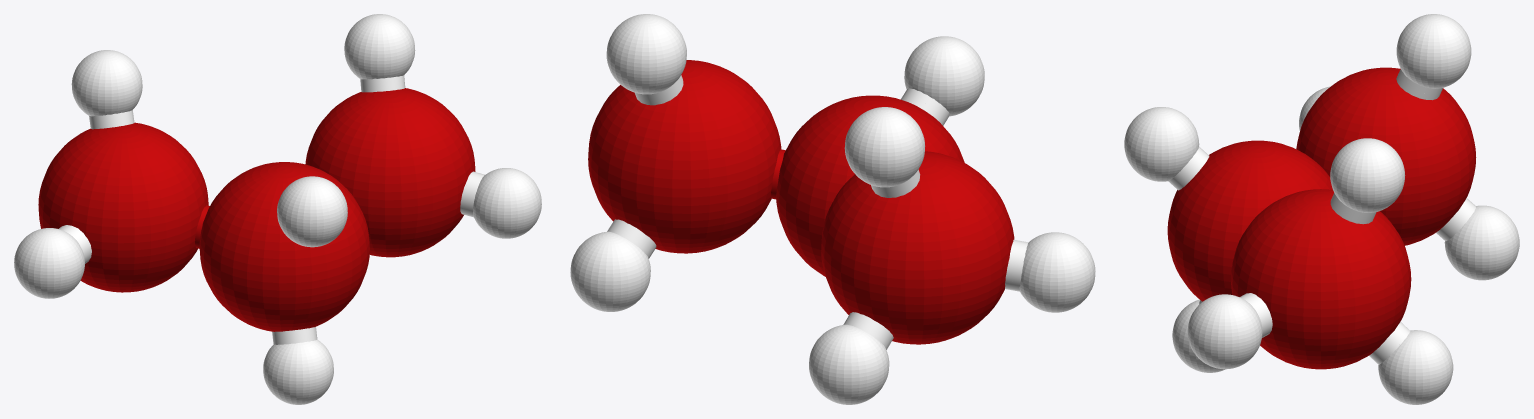
The model's file is butane3.glb.
The picture shows the model from 3 angles, left to right: view 1: azimuth 30°, elevation 25°; view 2: azimuth 150°, elevation 25°; view 3: azimuth 270°, elevation 25°; orthographic projection. The views are drawn at different scales.
Parts seen in each view (by area): view 1: Carbon_ball (×3), Hydrogen_ball (×6); view 2: Carbon_ball (×3), Hydrogen_ball (×6); view 3: Carbon_ball (×3), Hydrogen_ball (×7).
Boxes of the visible parts, x1,y1,x2,y2 form: Carbon_ball (×3): (38,88,475,331); Hydrogen_ball (×6): (14,14,541,404); Carbon_ball (×3): (588,60,1014,344); Hydrogen_ball (×6): (570,14,1095,404); Carbon_ball (×3): (1167,67,1476,369); Hydrogen_ball (×7): (1124,14,1519,404).
Size of the model in its own units: 4.85 by 2.9 by 3.38.
